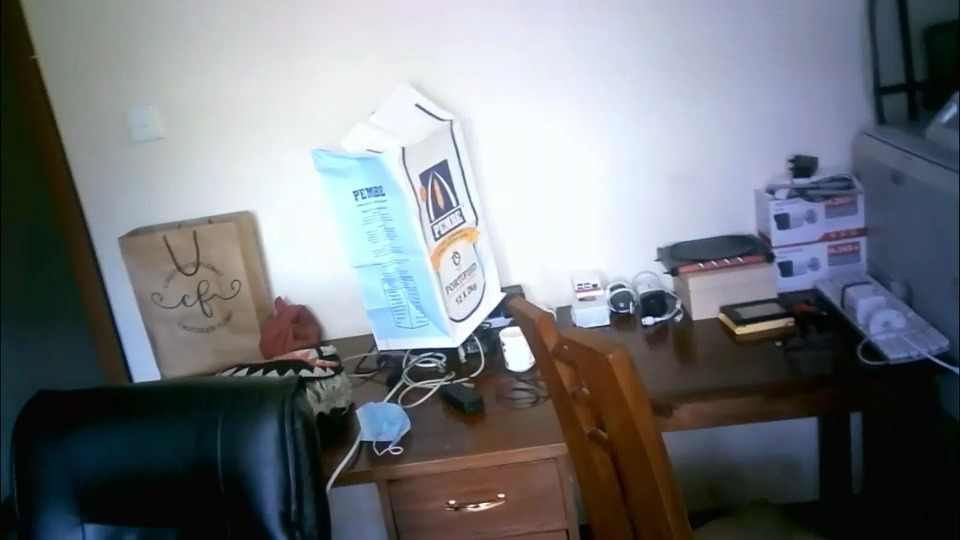wheat_flour_blue_label: (312, 78, 505, 348)
